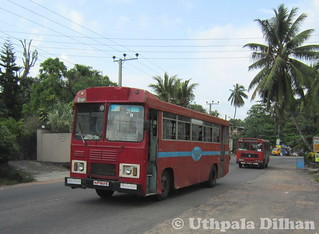bus: (64, 85, 231, 201), (234, 137, 270, 169)
